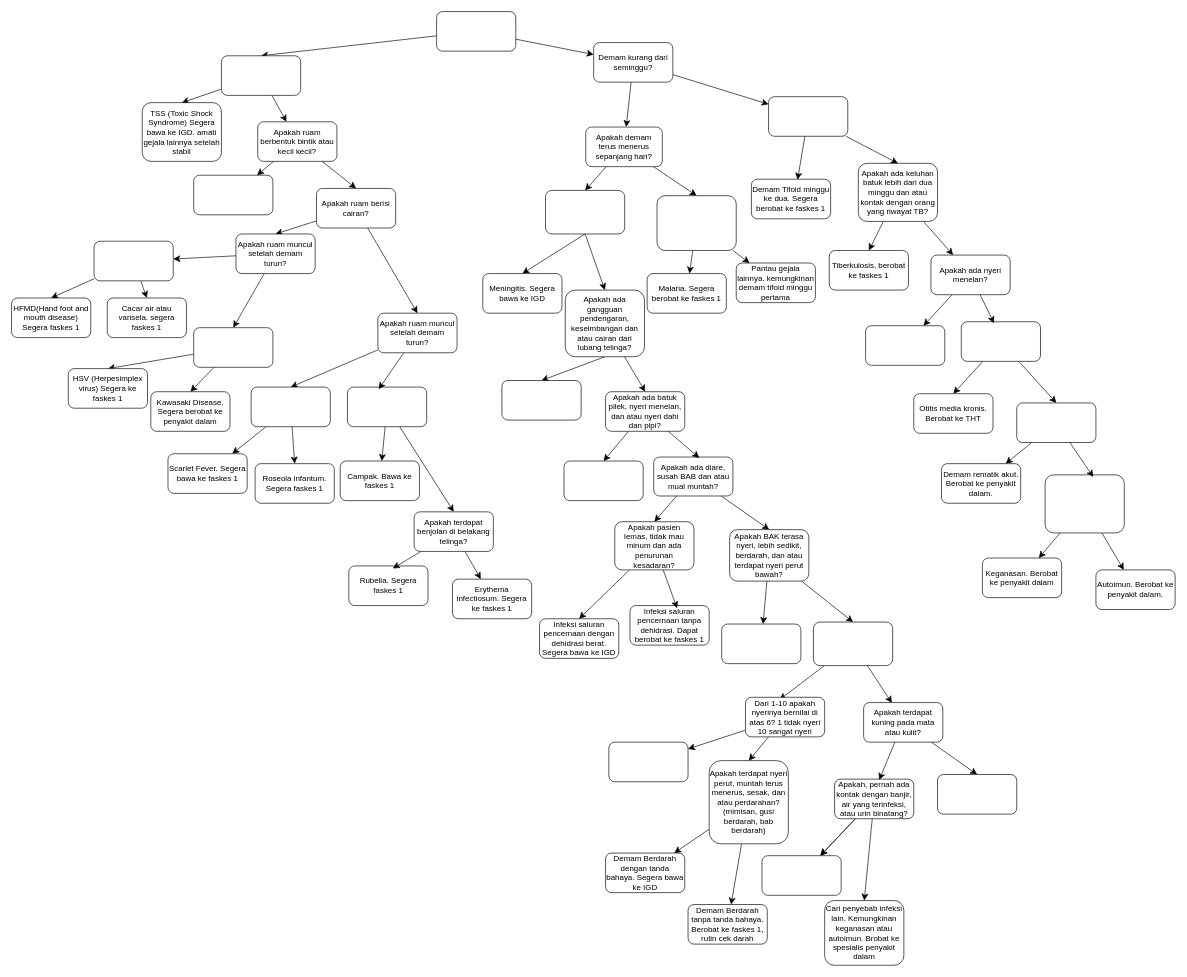
Image size: 1187x977. Some labels were removed from this diagram. Here are the shapes that lost their labels. From the top down, the box of each, then its label:
(436, 11, 516, 51): Apakah terdapat ruam di kulit?
(221, 55, 301, 95): Apakah terdapat muntah, penurunan kesadaran dan atau nyeri kepala?
(768, 96, 848, 136): Apakah terdapat mual, muntah, sakit perut, diare, atau susah BAB?
(193, 175, 273, 215): Demam berdarah. ke faskes 1
(545, 190, 625, 234): Apakah ada nyeri kepala, penurunan kesadaran dan atau kejang?
(656, 195, 736, 250): Apakah ada riwayat traveling ke tempat endemis seperti wilayah timur indonesia?
(93, 241, 173, 281): Apakah ruam muncul di tangan kaki dan mulut?
(193, 327, 273, 367): Apakah ruam terasa terbakar, dan berada di sekitar mulut atau genital?
(865, 325, 945, 365): Konsilitis, Berobat ke faskes 1
(961, 321, 1040, 361): Apakah ada cairan keluar dari telinga?
(250, 386, 330, 427): Apakah kulit terasa kasar seperti pasir dan lidah seperti stroberi?
(347, 386, 427, 427): Apakah terdapat 3c (Batuk, pilek, mata merah)?
(501, 380, 581, 420): Otitis. Dapat berobat ke fasilitas kesehatan tingkat 1
(1016, 402, 1096, 443): Apakah terdapat gerakan tidak wajar, nyeri sendi, ruam kulit?
(563, 460, 643, 501): ISPA. Dapat berobat ke faskes 1
(1044, 474, 1124, 533): Apakah terdapat penurunan berat badan yang drastis, lemas dan atau pucat?
(721, 623, 801, 664): Infeksi saluran kemih. Berobat ke faskes 1
(813, 621, 893, 666): Apakah terdapat nyeri kepala, nyeri belakang mata, otot, tulang dan sendi?
(608, 742, 688, 782): Chikungunya. Berobat ke faskes 1
(937, 774, 1017, 814): Kemungkinan infeksi virus. Istirahat dan makan yang cukup.
(761, 855, 841, 895): Leptospirosis. Segera berobat ke faskes 1
